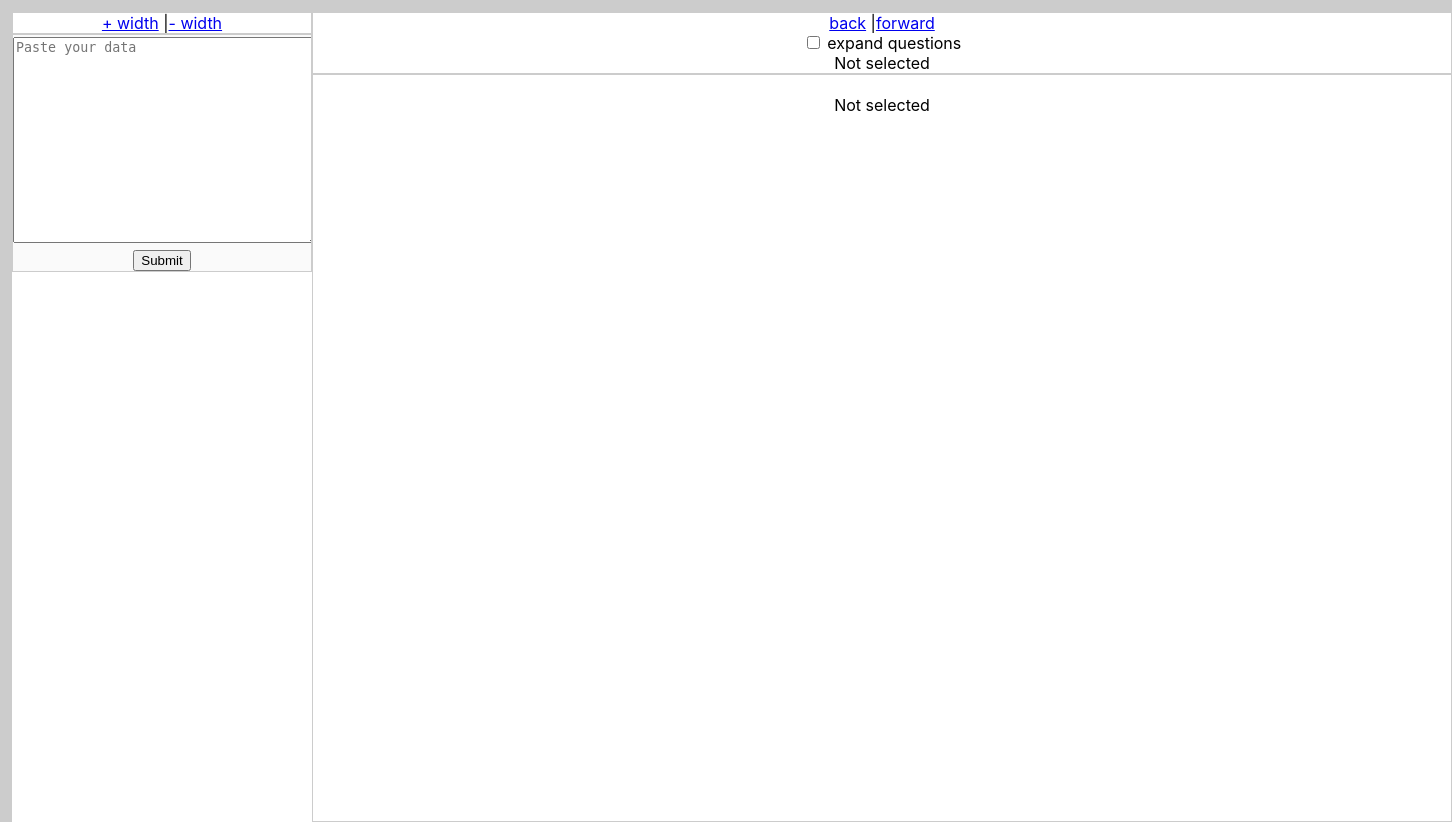
Scenario: App › removes comments
In the text box with test id "textarea": (166, 140) top-left (13, 37), bottom-right (319, 243), type "# default data"
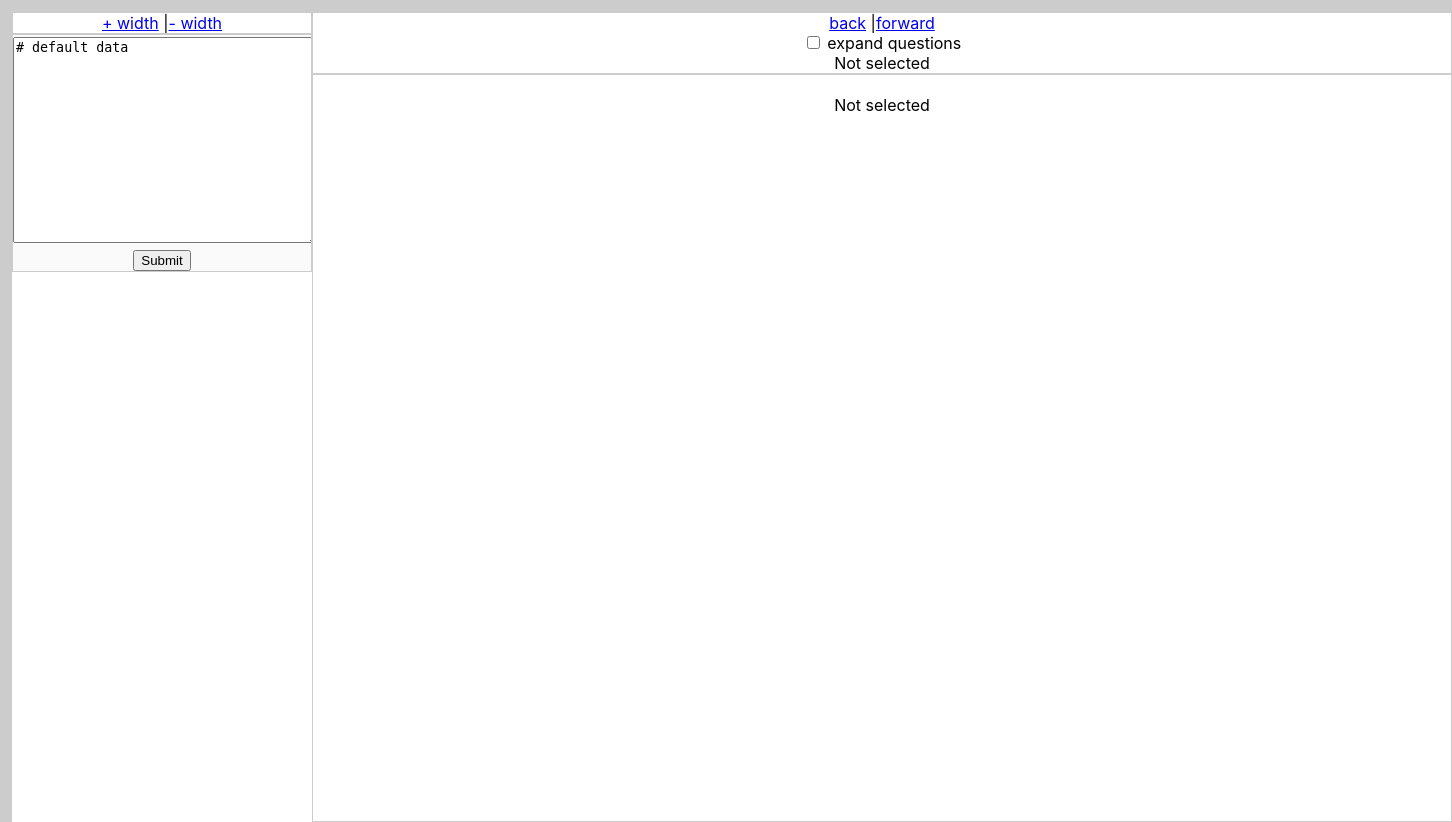
Click the button with test id "submit": (162, 260) top-left (133, 250), bottom-right (191, 271)
Wait 1500 ms
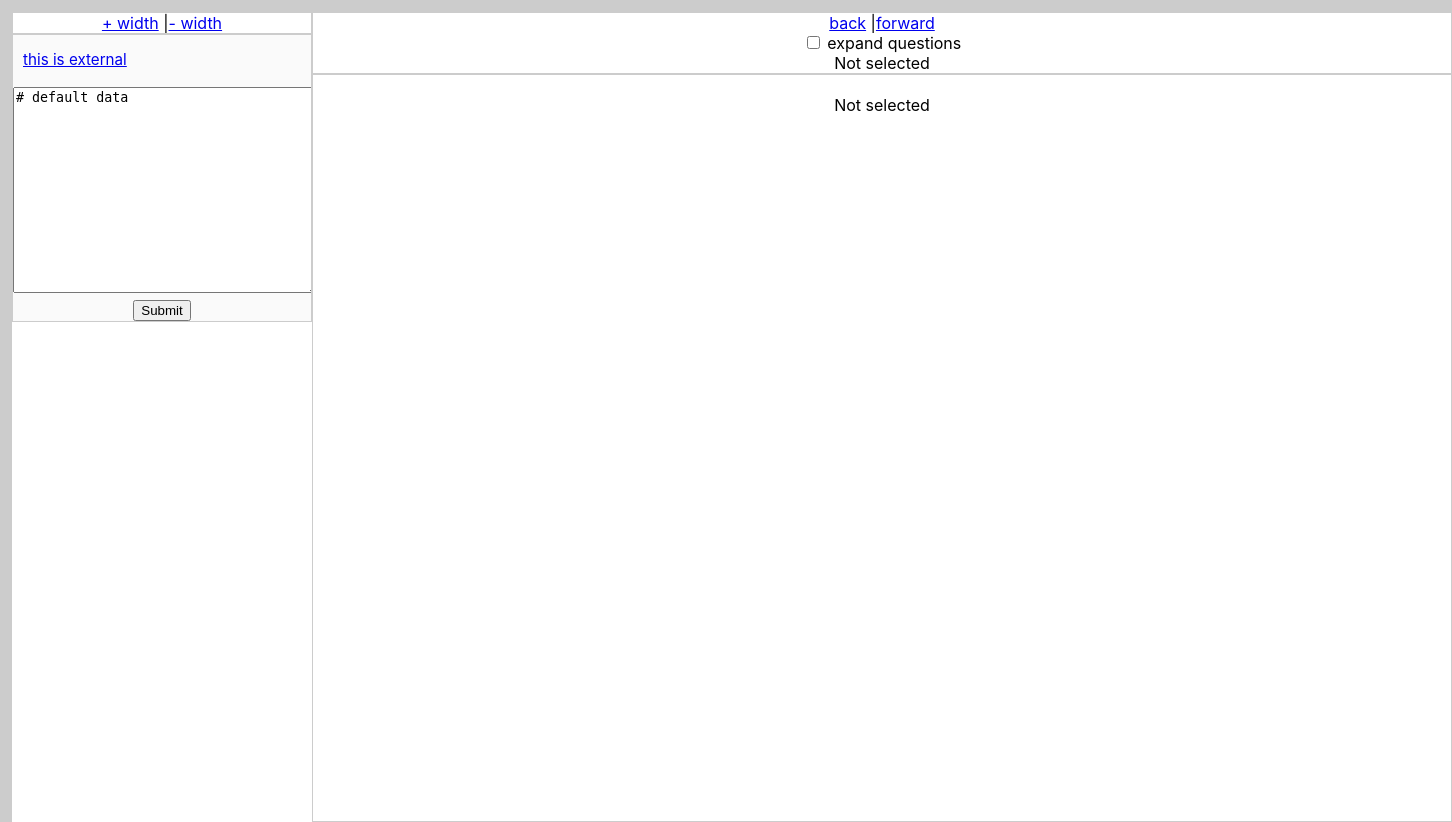
Result: the link "this is external" is shown at top-left (23, 50), bottom-right (127, 69)
